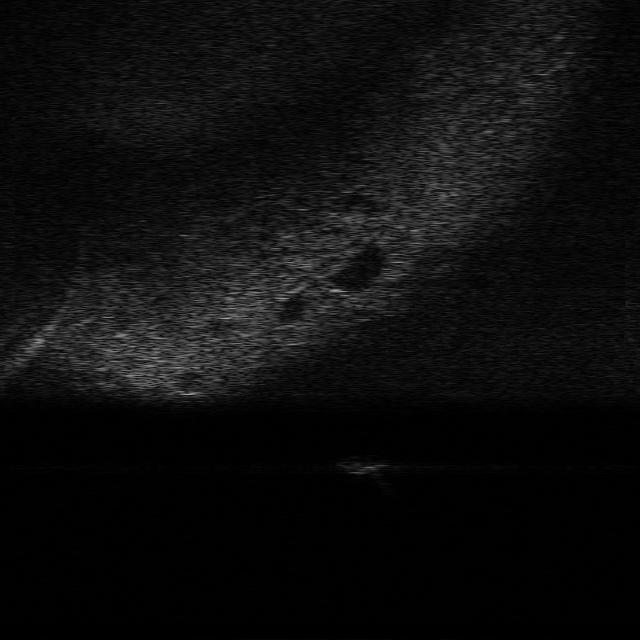cube: (335, 453, 389, 475)
